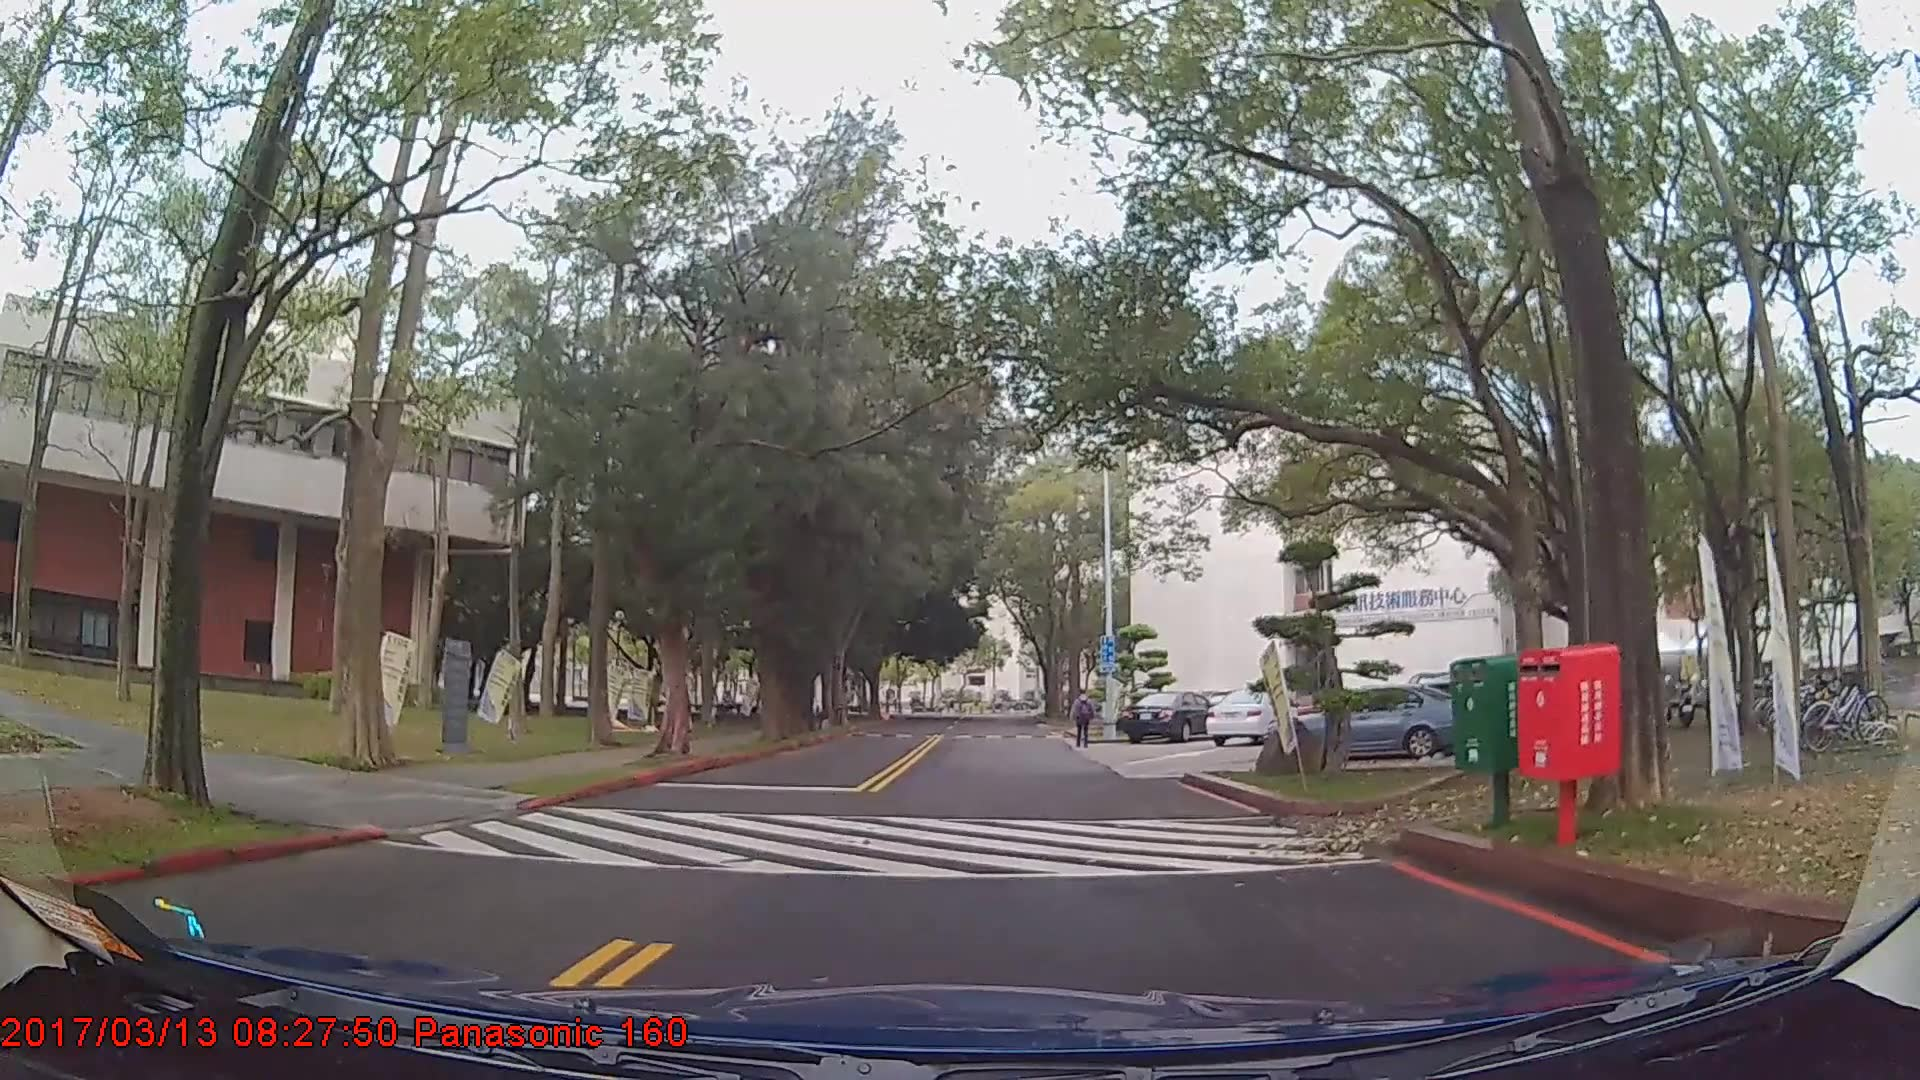pedestrian: (1070, 689, 1097, 750)
vehicle: (1278, 681, 1479, 763), (1202, 686, 1295, 746), (1114, 690, 1219, 741)
